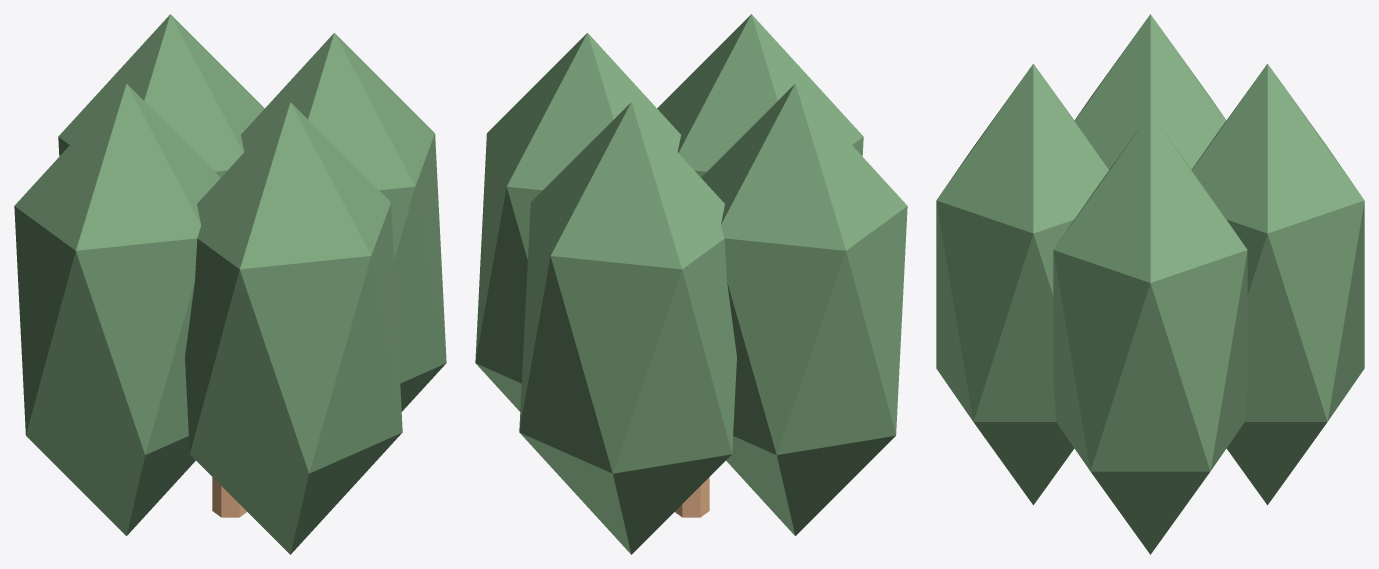
3 views of the same model, side by side, from view 1: azimuth 30°, elevation 25°; view 2: azimuth 150°, elevation 25°; view 3: azimuth 270°, elevation 25° (orthographic). The views are drawn at different scales.
Parts seen in each view (by area): view 1: Leaf.003, Leaf.002, Leaf, Leaf.001, Stem; view 2: Leaf.001, Leaf.002, Leaf, Leaf.003, Stem; view 3: Leaf, Leaf.001, Leaf.003, Leaf.002.
Part boxes in pixels (x1,y1,x2,y2): Leaf.003: [185, 102, 402, 554]; Leaf.002: [14, 83, 220, 535]; Leaf: [241, 33, 446, 411]; Leaf.001: [58, 14, 264, 177]; Stem: [212, 477, 246, 517]; Leaf.001: [519, 102, 736, 554]; Leaf.002: [701, 83, 907, 535]; Leaf: [475, 33, 680, 411]; Leaf.003: [657, 14, 863, 177]; Stem: [675, 477, 709, 517]; Leaf: [1053, 113, 1247, 554]; Leaf.001: [1192, 64, 1364, 504]; Leaf.003: [936, 64, 1108, 504]; Leaf.002: [1074, 14, 1226, 169].
Bounding box in the file's own units: 0.4726 × 0.5 × 0.439.
Materials: 1 (1 with a texture image).
